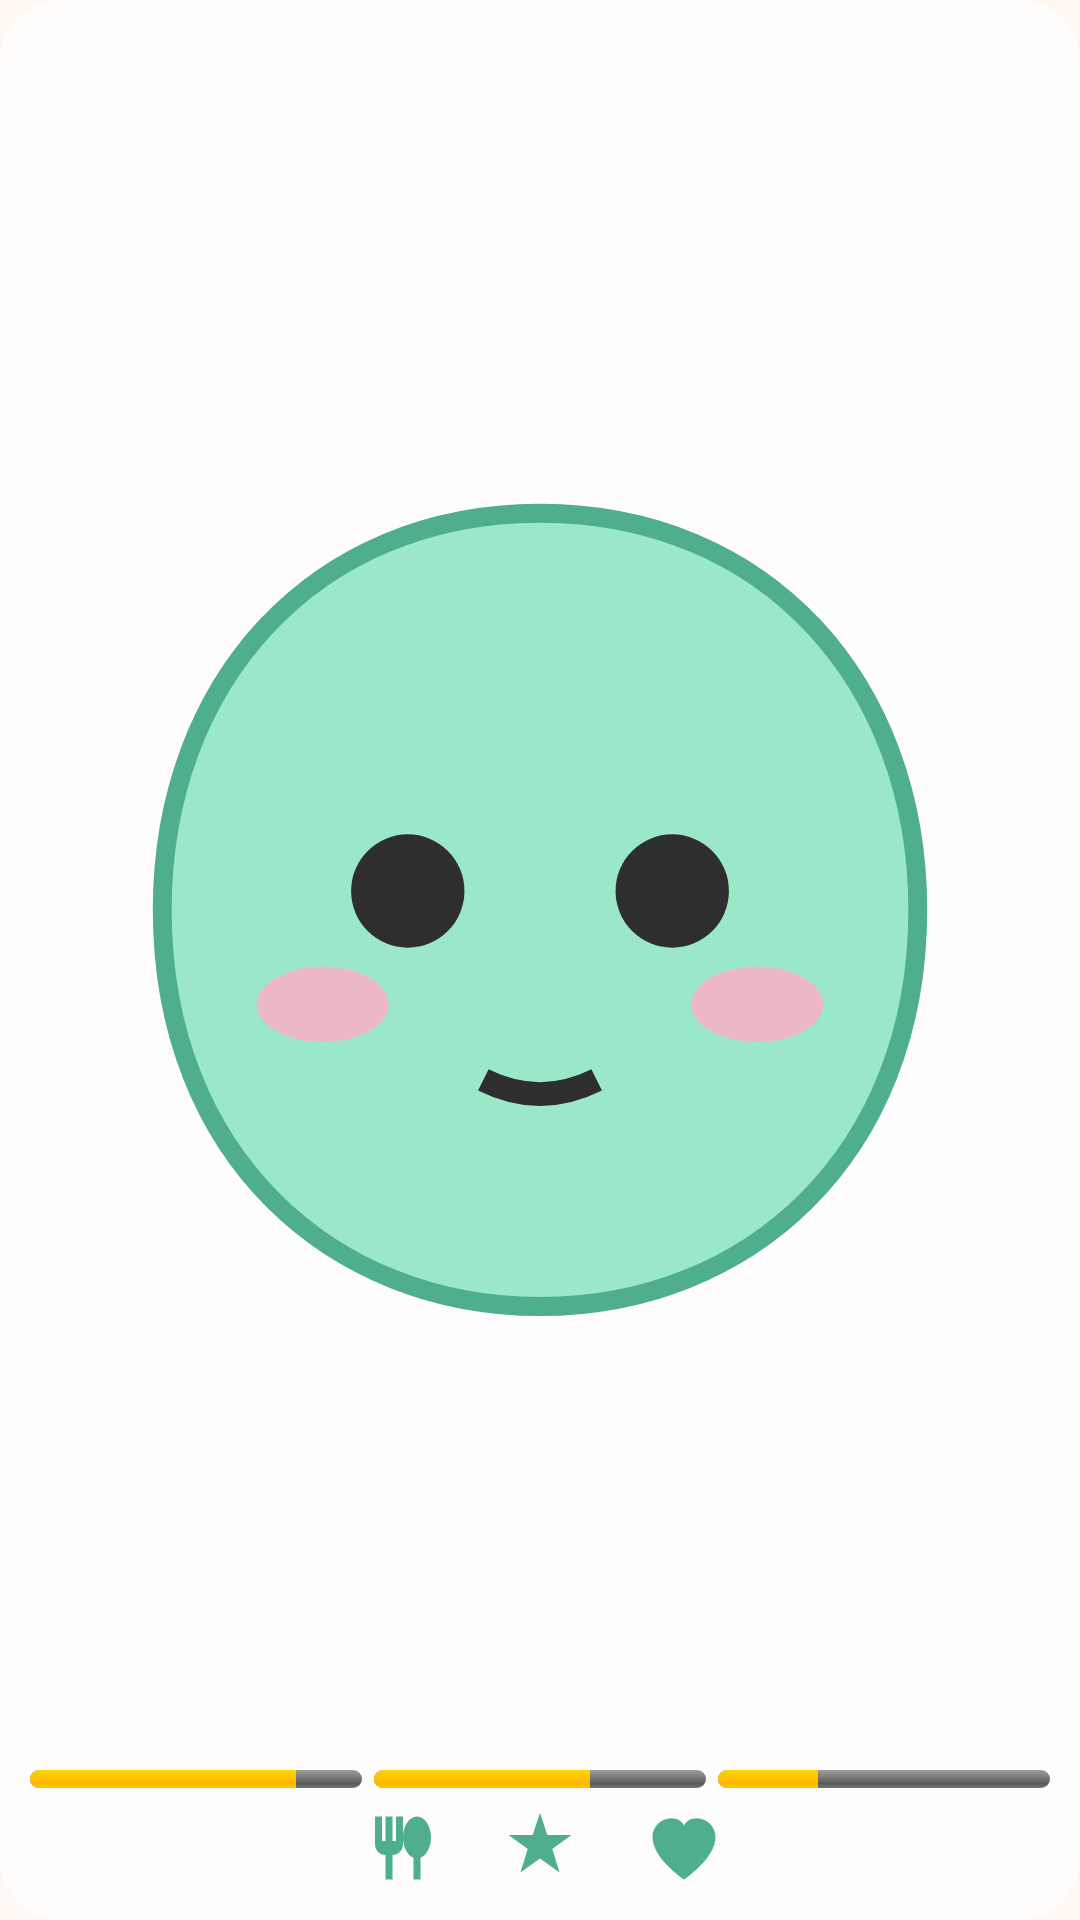

Icon click points for this 1080px×1920px phone screenshot, format point (x, y):
Погладить: point (684, 1849)
Покормить: point (403, 1848)
